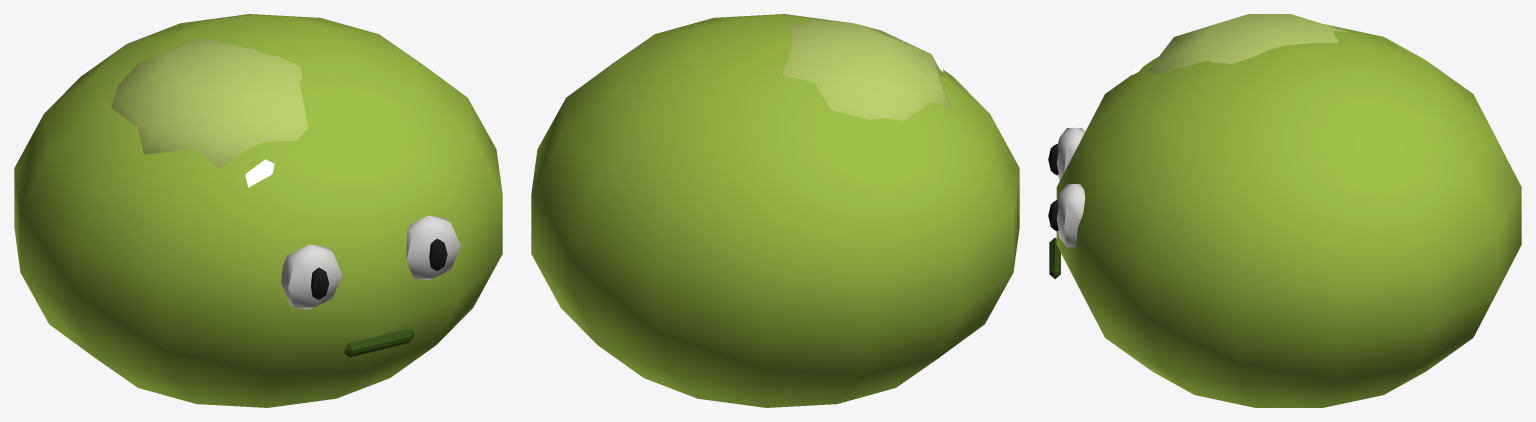
File: petit_limon.glb
3 views of the same model, side by side, from view 1: azimuth 30°, elevation 25°; view 2: azimuth 150°, elevation 25°; view 3: azimuth 270°, elevation 25° (orthographic). The views are drawn at different scales.
Visible parts, largest first — view 1: Corps_peint, Reflet; view 2: Corps_peint; view 3: Corps_peint.
Part boxes in pixels (<box>): Corps_peint: <box>14,14,502,407</box>; Reflet: <box>245,159,274,187</box>; Corps_peint: <box>531,14,1019,407</box>; Corps_peint: <box>1048,14,1521,407</box>.
Bounding box in the file's own units: 0.1937 × 0.1499 × 0.1935.
